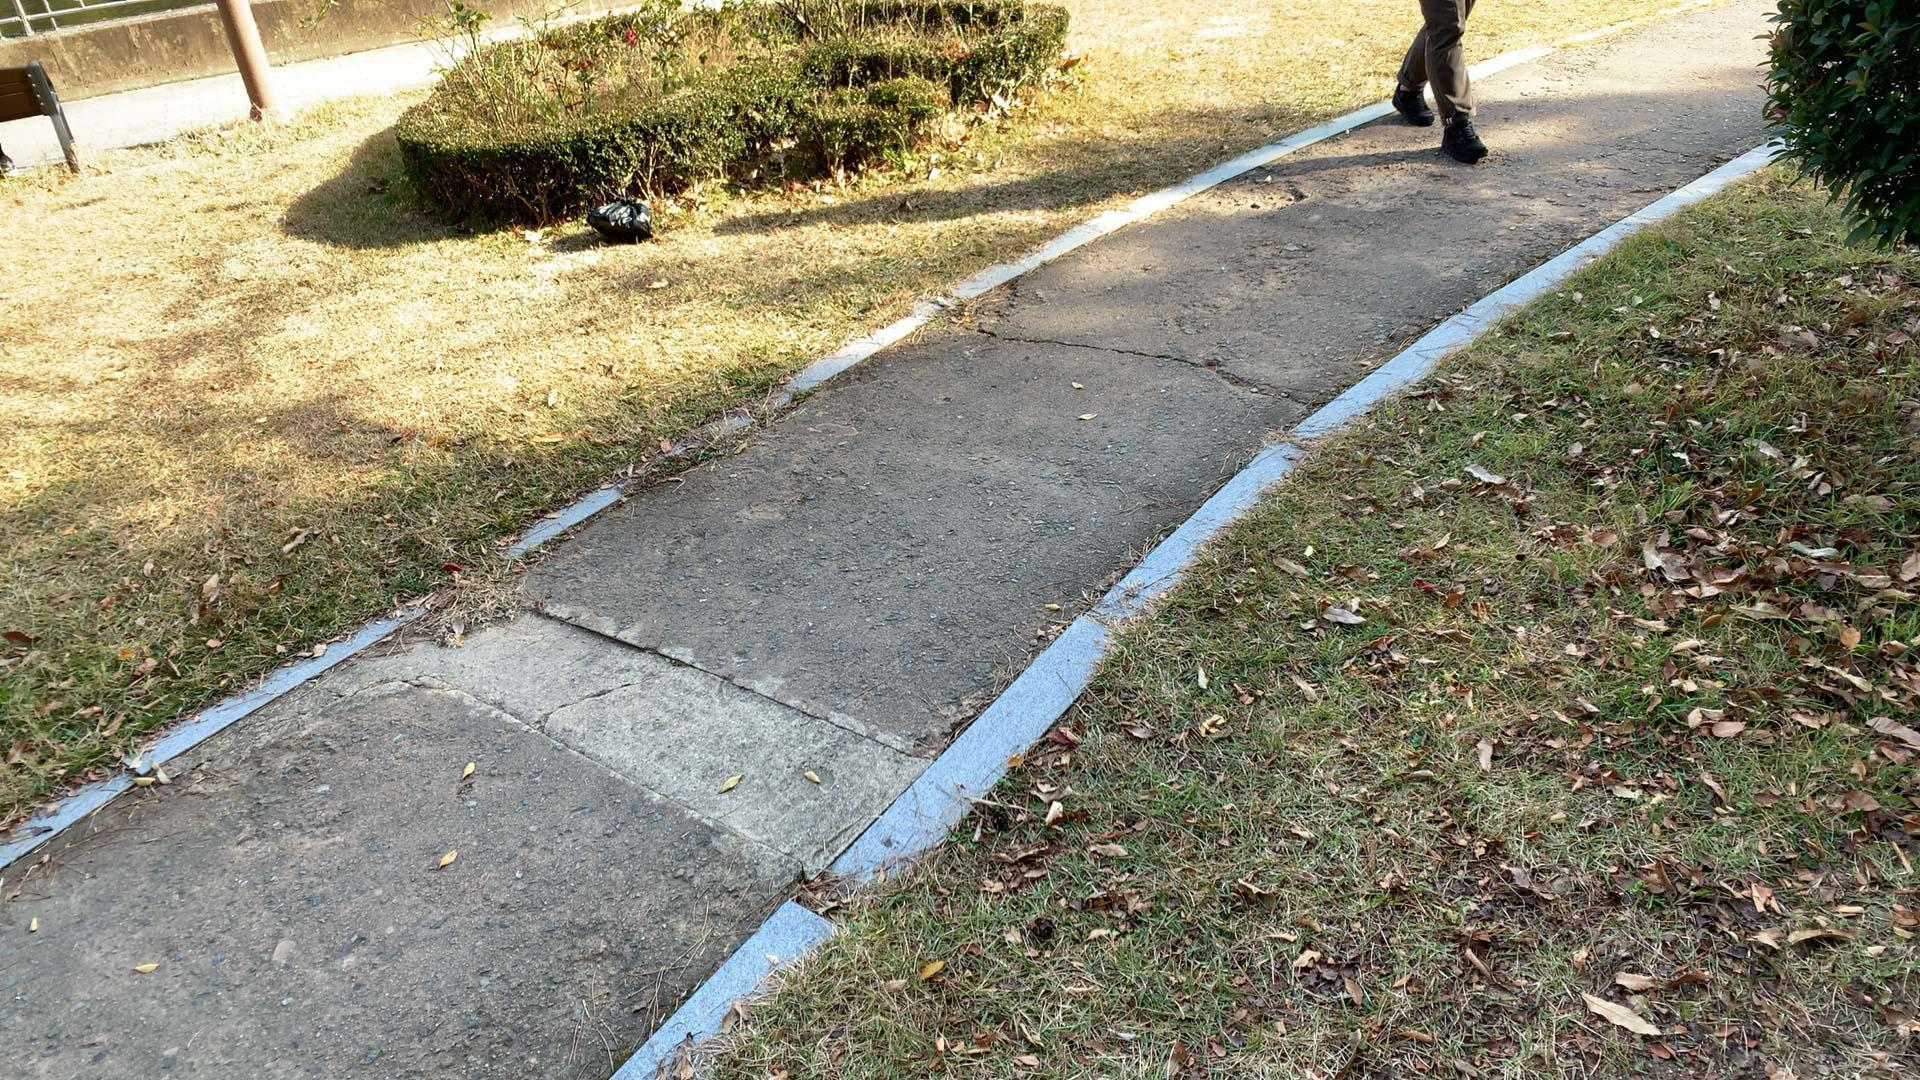black_bag: (583, 193, 654, 243)
